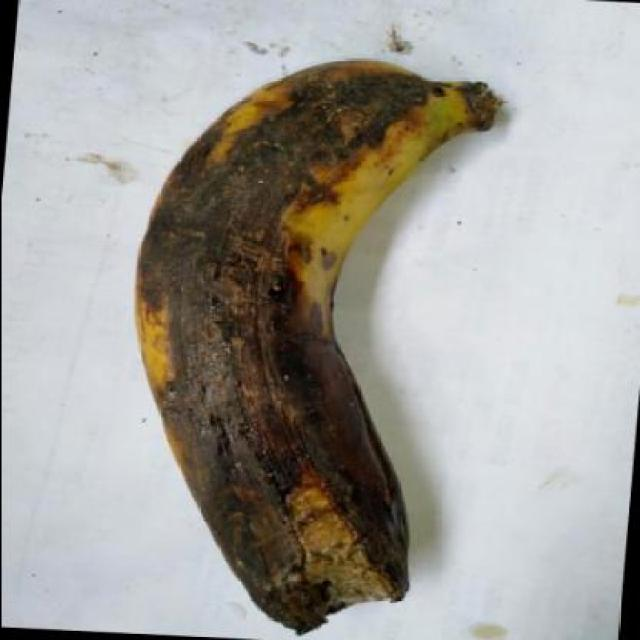Rotten: (98, 27, 530, 640)
